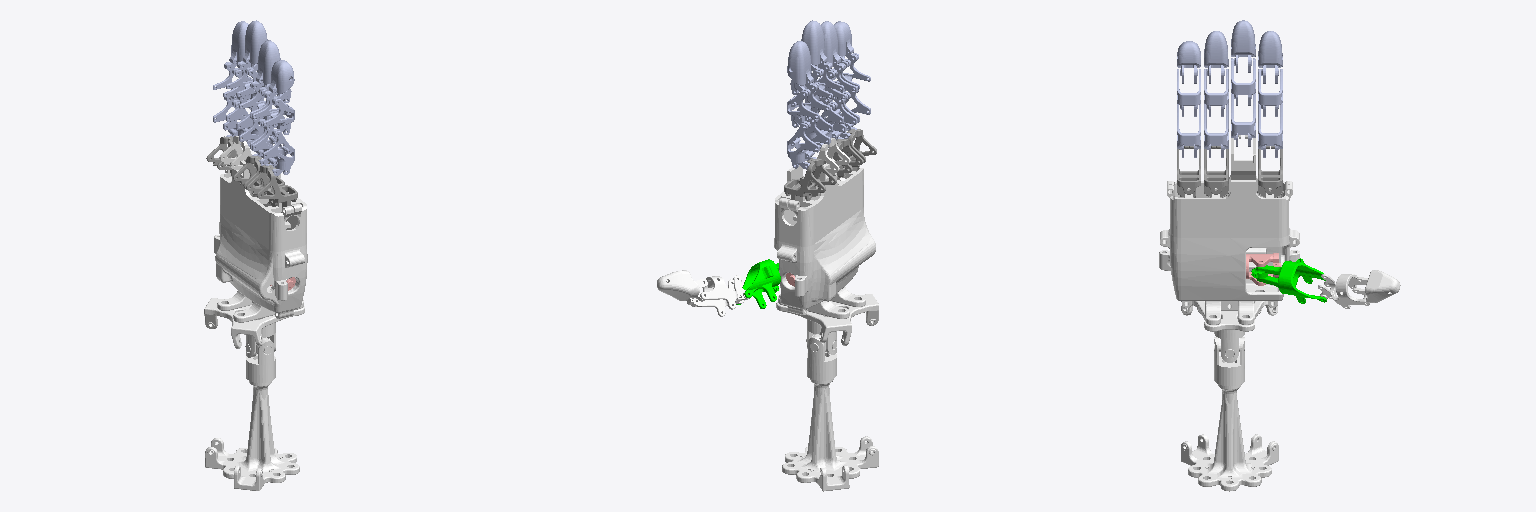
--- What the picture shows (computed from the rendered views, not written in the file) ---
The picture shows the robot from 3 angles, left to right: view 1: azimuth 30°, elevation 25°; view 2: azimuth 150°, elevation 25°; view 3: azimuth 270°, elevation 25°; orthographic projection.
Robot: Assem_w_tip_w_wrist — 27 links, 26 joints (21 revolute, 5 fixed); root link base_link; default pose: all joints at 0.
Visible links, largest first — view 1: Palm, base_link, P_B_MCP, P_MCP, P_DIP, P_PIP, R_DIP, M_DIP, I_DIP, R_B_MCP; view 2: Palm, base_link, T_MCP, T_CMC, I_B_MCP, I_DIP, T_IP, I_MCP, I_PIP, M_DIP, R_DIP, P_DIP (+1 smaller); view 3: Palm, base_link, T_CMC, T_MCP, T_IP, I_DIP, R_DIP, M_DIP, R_B_MCP, I_B_MCP, P_B_MCP, P_DIP (+6 smaller).
Boxes of the visible links, x1,y1,x2,y2 form: Palm: (204,136,307,357); base_link: (205,339,299,490); P_B_MCP: (246,165,297,212); P_MCP: (252,123,294,175); P_DIP: (265,60,294,103); P_PIP: (252,91,294,135); R_DIP: (252,40,280,93); M_DIP: (238,20,267,74); I_DIP: (225,21,250,74); R_B_MCP: (233,156,284,203); Palm: (774,138,878,354); base_link: (782,336,878,491); T_MCP: (691,275,749,316); T_CMC: (736,259,780,308); I_B_MCP: (784,158,836,206); I_DIP: (787,41,817,95); T_IP: (657,270,707,305); I_MCP: (787,116,830,169); I_PIP: (787,82,830,127); M_DIP: (801,20,830,74); R_DIP: (818,21,844,75); P_DIP: (834,21,857,66); Palm: (1159,135,1299,362); base_link: (1181,337,1278,491); T_CMC: (1251,258,1326,303); T_MCP: (1318,274,1369,308); T_IP: (1352,270,1399,303); I_DIP: (1258,31,1282,83); R_DIP: (1204,31,1228,83); M_DIP: (1231,20,1255,72); R_B_MCP: (1204,146,1228,197); I_B_MCP: (1257,146,1283,197); P_B_MCP: (1177,146,1200,197); P_DIP: (1177,41,1200,83).
Bounding box of the posed robot: 0.1153 × 0.1869 × 0.3885 m (x, y, z).
Meshes: 26 distinct files referenced, 26 mesh visuals loaded (26 binary STL).

URDF robot description (Assem_w_tip_w_wrist):
<?xml version="1.0" ?>
<!-- =================================================================================== -->
<!-- |    This document was autogenerated by xacro from Krysalis_Assem_w_tip_w_wrist.xacro | -->
<!-- |    EDITING THIS FILE BY HAND IS NOT RECOMMENDED                                 | -->
<!-- =================================================================================== -->
<robot name="Assem_w_tip_w_wrist">
  <link name="base_link">
    <inertial>
      <origin rpy="0 0 0" xyz="0.00288917703400745 7.19298575992736E-08 0.0333943413697345"/>
      <mass value="0.0405673074248041"/>
      <inertia ixx="3.05405058204204E-05" ixy="-9.17701530382059E-12" ixz="-2.28215750329719E-06" iyy="2.99406334813428E-05" iyz="5.05819828519376E-11" izz="1.29896650650468E-05"/>
    </inertial>
    <visual>
      <origin rpy="0 0 0" xyz="0 0 0"/>
      <geometry>
        <mesh filename="package://Assem_w_tip_w_wrist/meshes/base_link.STL"/>
      </geometry>
      <material name="">
        <color rgba="1 1 1 1"/>
      </material>
    </visual>
    <collision>
      <origin rpy="0 0 0" xyz="0 0 0"/>
      <geometry>
        <mesh filename="package://Assem_w_tip_w_wrist/meshes/base_link.STL"/>
      </geometry>
    </collision>
  </link>
  <link name="Palm">
    <inertial>
      <origin rpy="0 0 0" xyz="-0.00100228247291861 0.0713109339067146 -0.00174502462719912"/>
      <mass value="0.120926471921812"/>
      <inertia ixx="0.000138610425454301" ixy="-4.62786158151152E-06" ixz="2.20807343346201E-06" iyy="0.000101897977536037" iyz="-2.30882115787054E-06" izz="0.000192936318502003"/>
    </inertial>
    <visual>
      <origin rpy="0 0 0" xyz="0 0 0"/>
      <geometry>
        <mesh filename="package://Assem_w_tip_w_wrist/meshes/Palm.STL"/>
      </geometry>
      <material name="">
        <color rgba="1 1 1 1"/>
      </material>
    </visual>
    <collision>
      <origin rpy="0 0 0" xyz="0 0 0"/>
      <geometry>
        <mesh filename="package://Assem_w_tip_w_wrist/meshes/Palm.STL"/>
      </geometry>
    </collision>
  </link>
  <link name="I_B_MCP">
    <inertial>
      <origin rpy="0 0 0" xyz="-0.000141741869560293 0.0074142743318362 0.00334888740628136"/>
      <mass value="0.00533430654578869"/>
      <inertia ixx="1.03059674811244E-06" ixy="2.85499977000514E-09" ixz="5.92073904839143E-09" iyy="6.30910052491092E-07" iyz="-3.26746504704581E-07" izz="8.35249912431195E-07"/>
    </inertial>
    <visual>
      <origin rpy="0 0 0" xyz="0 0 0"/>
      <geometry>
        <mesh filename="package://Assem_w_tip_w_wrist/meshes/I_B_MCP.STL"/>
      </geometry>
      <material name="">
        <color rgba="0.698039215686274 0.698039215686274 0.698039215686274 1"/>
      </material>
    </visual>
    <collision>
      <origin rpy="0 0 0" xyz="0 0 0"/>
      <geometry>
        <mesh filename="package://Assem_w_tip_w_wrist/meshes/I_B_MCP.STL"/>
      </geometry>
    </collision>
  </link>
  <joint name="Index_Below_MCP" type="revolute">
    <origin rpy="3.14159265358979 0 3.14159265358979" xyz="0.0314999999997207 0.140450000000007 0"/>
    <parent link="Palm"/>
    <child link="I_B_MCP"/>
    <axis xyz="0 0 1"/>
    <limit effort="0" lower="0" upper="0.4666" velocity="0"/>
  </joint>
  <link name="I_MCP">
    <inertial>
      <origin rpy="0 0 0" xyz="-1.74798426278155E-05 0.0124250684933012 0.0058426333833799"/>
      <mass value="0.00275593740944754"/>
      <inertia ixx="3.71397800153596E-07" ixy="-4.41719116223258E-11" ixz="5.12329061713431E-11" iyy="2.52621011381552E-07" iyz="4.71521203210919E-08" izz="3.66972791021968E-07"/>
    </inertial>
    <visual>
      <origin rpy="0 0 0" xyz="0 0 0"/>
      <geometry>
        <mesh filename="package://Assem_w_tip_w_wrist/meshes/I_MCP.STL"/>
      </geometry>
      <material name="">
        <color rgba="0.796078431372549 0.823529411764706 0.937254901960784 1"/>
      </material>
    </visual>
    <collision>
      <origin rpy="0 0 0" xyz="0 0 0"/>
      <geometry>
        <mesh filename="package://Assem_w_tip_w_wrist/meshes/I_MCP.STL"/>
      </geometry>
    </collision>
  </link>
  <joint name="Index_MCP" type="revolute">
    <origin rpy="3.14159265358979 0 3.14159265358979" xyz="0 0.0280000000000001 0.00795476324525228"/>
    <parent link="I_B_MCP"/>
    <child link="I_MCP"/>
    <axis xyz="-1 0 0"/>
    <limit effort="0" lower="-1.8002" upper="0" velocity="0"/>
  </joint>
  <link name="I_PIP">
    <inertial>
      <origin rpy="0 0 0" xyz="-1.89088826897318E-05 0.0102468342925393 0.00623016626774232"/>
      <mass value="0.00240650780281676"/>
      <inertia ixx="2.39240219965935E-07" ixy="-3.25872058619951E-11" ixz="3.63121382835939E-11" iyy="2.04216614716598E-07" iyz="3.40669686531923E-09" izz="2.34950639926256E-07"/>
    </inertial>
    <visual>
      <origin rpy="0 0 0" xyz="0 0 0"/>
      <geometry>
        <mesh filename="package://Assem_w_tip_w_wrist/meshes/I_PIP.STL"/>
      </geometry>
      <material name="">
        <color rgba="0.796078431372549 0.823529411764706 0.937254901960784 1"/>
      </material>
    </visual>
    <collision>
      <origin rpy="0 0 0" xyz="0 0 0"/>
      <geometry>
        <mesh filename="package://Assem_w_tip_w_wrist/meshes/I_PIP.STL"/>
      </geometry>
    </collision>
  </link>
  <joint name="Index_PIP" type="revolute">
    <origin rpy="0 0 0" xyz="0 0.0349845407392165 4.41133227610524E-05"/>
    <parent link="I_MCP"/>
    <child link="I_PIP"/>
    <axis xyz="-1 0 0"/>
    <limit effort="0" lower="-1.3104" upper="0" velocity="0"/>
  </joint>
  <link name="I_DIP">
    <inertial>
      <origin rpy="0 0 0" xyz="-1.79514642293377E-05 0.0186542949904827 0.00887453782729761"/>
      <mass value="0.00401062210067862"/>
      <inertia ixx="5.37383356206639E-07" ixy="-2.55982277048139E-10" ixz="-2.95024709322941E-11" iyy="2.03576113009439E-07" iyz="-6.20176632030851E-08" izz="5.63158597281292E-07"/>
    </inertial>
    <visual>
      <origin rpy="0 0 0" xyz="0 0 0"/>
      <geometry>
        <mesh filename="package://Assem_w_tip_w_wrist/meshes/I_DIP.STL"/>
      </geometry>
      <material name="">
        <color rgba="0.796078431372549 0.823529411764706 0.937254901960784 1"/>
      </material>
    </visual>
    <collision>
      <origin rpy="0 0 0" xyz="0 0 0"/>
      <geometry>
        <mesh filename="package://Assem_w_tip_w_wrist/meshes/I_DIP.STL"/>
      </geometry>
    </collision>
  </link>
  <joint name="Index_DIP" type="revolute">
    <origin rpy="0 0 0" xyz="0 0.0280000000000003 0"/>
    <parent link="I_PIP"/>
    <child link="I_DIP"/>
    <axis xyz="-1 0 0"/>
    <limit effort="0" lower="-1.1885" upper="0" velocity="0"/>
  </joint>
  <link name="I_DIP_Tip">
    <inertial>
      <origin rpy="0 0 0" xyz="-1.79511198905996E-05 -0.0208456920790837 -0.00112546160039845"/>
      <mass value="0.00401062518281372"/>
      <inertia ixx="5.37384300107463E-07" ixy="-2.55997853759538E-10" ixz="-2.95041885529222E-11" iyy="2.03576090196458E-07" iyz="-6.20177097517699E-08" izz="5.63159534023233E-07"/>
    </inertial>
    <visual>
      <origin rpy="0 0 0" xyz="0 0 0"/>
      <geometry>
        <mesh filename="package://Assem_w_tip_w_wrist/meshes/I_DIP_Tip.STL"/>
      </geometry>
      <material name="">
        <color rgba="0.796078431372549 0.823529411764706 0.937254901960784 1"/>
      </material>
    </visual>
    <collision>
      <origin rpy="0 0 0" xyz="0 0 0"/>
      <geometry>
        <mesh filename="package://Assem_w_tip_w_wrist/meshes/I_DIP_Tip.STL"/>
      </geometry>
    </collision>
  </link>
  <joint name="Index_DIP_Tip" type="fixed">
    <origin rpy="0 0 0" xyz="0 0.0394999999999937 0.00999999999992346"/>
    <parent link="I_DIP"/>
    <child link="I_DIP_Tip"/>
    <axis xyz="0 0 0"/>
  </joint>
  <link name="M_MCP">
    <inertial>
      <origin rpy="0 0 0" xyz="0.0101136051263437 0.0123174670813249 0.00573716287431845"/>
      <mass value="0.00272570618171821"/>
      <inertia ixx="3.60740313112994E-07" ixy="-4.98044373035369E-11" ixz="5.84099746234099E-11" iyy="2.49082011924943E-07" iyz="4.63135977780751E-08" izz="3.60045720563296E-07"/>
    </inertial>
    <visual>
      <origin rpy="0 0 0" xyz="0 0 0"/>
      <geometry>
        <mesh filename="package://Assem_w_tip_w_wrist/meshes/M_MCP.STL"/>
      </geometry>
      <material name="">
        <color rgba="0.796078431372549 0.823529411764706 0.937254901960784 1"/>
      </material>
    </visual>
    <collision>
      <origin rpy="0 0 0" xyz="0 0 0"/>
      <geometry>
        <mesh filename="package://Assem_w_tip_w_wrist/meshes/M_MCP.STL"/>
      </geometry>
    </collision>
  </link>
  <joint name="Middle_MCP" type="revolute">
    <origin rpy="0 0 0" xyz="0.000368685087286369 0.177450000000007 -0.00795178552457043"/>
    <parent link="Palm"/>
    <child link="M_MCP"/>
    <axis xyz="-1 0 0"/>
    <limit effort="0" lower="-1.7791" upper="0" velocity="0"/>
  </joint>
  <link name="M_PIP">
    <inertial>
      <origin rpy="0 0 0" xyz="0.0101119553037649 0.010252203532493 0.00631460697183711"/>
      <mass value="0.00237659295556983"/>
      <inertia ixx="2.36204818756337E-07" ixy="1.76280077969291E-12" ixz="3.6770946859238E-11" iyy="2.02624438695474E-07" iyz="3.74104602859201E-09" izz="2.28946207305512E-07"/>
    </inertial>
    <visual>
      <origin rpy="0 0 0" xyz="0 0 0"/>
      <geometry>
        <mesh filename="package://Assem_w_tip_w_wrist/meshes/M_PIP.STL"/>
      </geometry>
      <material name="">
        <color rgba="0.792156862745098 0.819607843137255 0.933333333333333 1"/>
      </material>
    </visual>
    <collision>
      <origin rpy="0 0 0" xyz="0 0 0"/>
      <geometry>
        <mesh filename="package://Assem_w_tip_w_wrist/meshes/M_PIP.STL"/>
      </geometry>
    </collision>
  </link>
  <joint name="Middle_PIP" type="revolute">
    <origin rpy="0 0 0" xyz="0 0.0349845407392164 4.41133227957469E-05"/>
    <parent link="M_MCP"/>
    <child link="M_PIP"/>
    <axis xyz="-1 0 0"/>
    <limit effort="0" lower="-1.2823" upper="0" velocity="0"/>
  </joint>
  <link name="M_DIP">
    <inertial>
      <origin rpy="0 0 0" xyz="0.00959086211352167 0.0186497160542034 0.0088256380117765"/>
      <mass value="0.00393985712726044"/>
      <inertia ixx="5.33501047208565E-07" ixy="-2.54142134600127E-10" ixz="-2.39215092139354E-11" iyy="2.021617042524E-07" iyz="-6.16508472153486E-08" izz="5.59715605803219E-07"/>
    </inertial>
    <visual>
      <origin rpy="0 0 0" xyz="0 0 0"/>
      <geometry>
        <mesh filename="package://Assem_w_tip_w_wrist/meshes/M_DIP.STL"/>
      </geometry>
      <material name="">
        <color rgba="0.796078431372549 0.823529411764706 0.937254901960784 1"/>
      </material>
    </visual>
    <collision>
      <origin rpy="0 0 0" xyz="0 0 0"/>
      <geometry>
        <mesh filename="package://Assem_w_tip_w_wrist/meshes/M_DIP.STL"/>
      </geometry>
    </collision>
  </link>
  <joint name="Middle_DIP" type="revolute">
    <origin rpy="0 0 0" xyz="0.000522164976606988 0.0280000000000001 0"/>
    <parent link="M_PIP"/>
    <child link="M_DIP"/>
    <axis xyz="-1 0 0"/>
    <limit effort="0" lower="-1.275" upper="0" velocity="0"/>
  </joint>
  <link name="M_DIP_Tip">
    <inertial>
      <origin rpy="0 0 0" xyz="-1.82883264406922E-05 -0.0208502708482803 -0.00117436108513081"/>
      <mass value="0.00393986040390953"/>
      <inertia ixx="5.33501938359617E-07" ixy="-2.54105674461358E-10" ixz="-2.39229374183927E-11" iyy="2.02161687109717E-07" iyz="-6.16509173250593E-08" izz="5.59716482402493E-07"/>
    </inertial>
    <visual>
      <origin rpy="0 0 0" xyz="0 0 0"/>
      <geometry>
        <mesh filename="package://Assem_w_tip_w_wrist/meshes/M_DIP_Tip.STL"/>
      </geometry>
      <material name="">
        <color rgba="0.796078431372549 0.823529411764706 0.937254901960784 1"/>
      </material>
    </visual>
    <collision>
      <origin rpy="0 0 0" xyz="0 0 0"/>
      <geometry>
        <mesh filename="package://Assem_w_tip_w_wrist/meshes/M_DIP_Tip.STL"/>
      </geometry>
    </collision>
  </link>
  <joint name="Middle_DIP_Tip" type="fixed">
    <origin rpy="0 0 0" xyz="0.00960914993574263 0.0394999999999935 0.00999999999987842"/>
    <parent link="M_DIP"/>
    <child link="M_DIP_Tip"/>
    <axis xyz="0 0 0"/>
  </joint>
  <link name="R_B_MCP">
    <inertial>
      <origin rpy="0 0 0" xyz="0.000141400022333087 0.00748571390330743 -0.00336921468308588"/>
      <mass value="0.00533806254719223"/>
      <inertia ixx="1.0353483169865E-06" ixy="-2.71242837104229E-09" ixz="5.52800342769745E-09" iyy="6.29683236201212E-07" iyz="3.28505949538031E-07" izz="8.39889436289043E-07"/>
    </inertial>
    <visual>
      <origin rpy="0 0 0" xyz="0 0 0"/>
      <geometry>
        <mesh filename="package://Assem_w_tip_w_wrist/meshes/R_B_MCP.STL"/>
      </geometry>
      <material name="">
        <color rgba="0.698039215686274 0.698039215686274 0.698039215686274 1"/>
      </material>
    </visual>
    <collision>
      <origin rpy="0 0 0" xyz="0 0 0"/>
      <geometry>
        <mesh filename="package://Assem_w_tip_w_wrist/meshes/R_B_MCP.STL"/>
      </geometry>
    </collision>
  </link>
  <joint name="Ring_Below_MCP" type="revolute">
    <origin rpy="0 0 0" xyz="-0.0105000000003218 0.140450000000007 0"/>
    <parent link="Palm"/>
    <child link="R_B_MCP"/>
    <axis xyz="0 0 1"/>
    <limit effort="0" lower="0" upper="0.4666" velocity="0"/>
  </joint>
  <link name="R_MCP">
    <inertial>
      <origin rpy="0 0 0" xyz="-1.81900103362071E-05 0.0123593679217145 0.00587054972046028"/>
      <mass value="0.00276771907047308"/>
      <inertia ixx="3.6293319421358E-07" ixy="-2.60044174910396E-11" ixz="4.37098756345083E-11" iyy="2.51940196800613E-07" iyz="4.48500665923026E-08" izz="3.63178593785227E-07"/>
    </inertial>
    <visual>
      <origin rpy="0 0 0" xyz="0 0 0"/>
      <geometry>
        <mesh filename="package://Assem_w_tip_w_wrist/meshes/R_MCP.STL"/>
      </geometry>
      <material name="">
        <color rgba="0.796078431372549 0.823529411764706 0.937254901960784 1"/>
      </material>
    </visual>
    <collision>
      <origin rpy="0 0 0" xyz="0 0 0"/>
      <geometry>
        <mesh filename="package://Assem_w_tip_w_wrist/meshes/R_MCP.STL"/>
      </geometry>
    </collision>
  </link>
  <joint name="Ring_MCP" type="revolute">
    <origin rpy="0 0 0" xyz="0 0.0280000000000001 -0.00795476324525061"/>
    <parent link="R_B_MCP"/>
    <child link="R_MCP"/>
    <axis xyz="-1 0 0"/>
    <limit effort="0" lower="-1.7553" upper="0" velocity="0"/>
  </joint>
  <link name="R_PIP">
    <inertial>
      <origin rpy="0 0 0" xyz="-1.80413738349317E-05 0.0102929994545149 0.00630507414295918"/>
      <mass value="0.00238434024010653"/>
      <inertia ixx="2.36356872842794E-07" ixy="-6.39117308852323E-12" ixz="1.54530706119539E-11" iyy="2.03192454048864E-07" iyz="3.38662038008827E-09" izz="2.30526732864084E-07"/>
    </inertial>
    <visual>
      <origin rpy="0 0 0" xyz="0 0 0"/>
      <geometry>
        <mesh filename="package://Assem_w_tip_w_wrist/meshes/R_PIP.STL"/>
      </geometry>
      <material name="">
        <color rgba="0.796078431372549 0.823529411764706 0.937254901960784 1"/>
      </material>
    </visual>
    <collision>
      <origin rpy="0 0 0" xyz="0 0 0"/>
      <geometry>
        <mesh filename="package://Assem_w_tip_w_wrist/meshes/R_PIP.STL"/>
      </geometry>
    </collision>
  </link>
  <joint name="Ring_PIP" type="revolute">
    <origin rpy="0 0 0" xyz="0 0.0349845407392165 4.41133228030188E-05"/>
    <parent link="R_MCP"/>
    <child link="R_PIP"/>
    <axis xyz="-1 0 0"/>
    <limit effort="0" lower="-1.273" upper="0" velocity="0"/>
  </joint>
  <link name="R_DIP">
    <inertial>
      <origin rpy="0 0 0" xyz="-1.83063200351503E-05 0.0186629542830772 0.00880902120918689"/>
      <mass value="0.00392874530194357"/>
      <inertia ixx="5.33045587126399E-07" ixy="-2.55761115191706E-10" ixz="-2.41673457656617E-11" iyy="2.01758989610719E-07" iyz="-6.18614962583378E-08" izz="5.59544610351373E-07"/>
    </inertial>
    <visual>
      <origin rpy="0 0 0" xyz="0 0 0"/>
      <geometry>
        <mesh filename="package://Assem_w_tip_w_wrist/meshes/R_DIP.STL"/>
      </geometry>
      <material name="">
        <color rgba="0.796078431372549 0.823529411764706 0.937254901960784 1"/>
      </material>
    </visual>
    <collision>
      <origin rpy="0 0 0" xyz="0 0 0"/>
      <geometry>
        <mesh filename="package://Assem_w_tip_w_wrist/meshes/R_DIP.STL"/>
      </geometry>
    </collision>
  </link>
  <joint name="Ring_DIP" type="revolute">
    <origin rpy="0 0 0" xyz="0 0.0280000000000001 0"/>
    <parent link="R_PIP"/>
    <child link="R_DIP"/>
    <axis xyz="-1 0 0"/>
    <limit effort="0" lower="-1.2842" upper="0" velocity="0"/>
  </joint>
  <link name="R_DIP_Tip">
    <inertial>
      <origin rpy="0 0 0" xyz="-1.83070900889835E-05 -0.0208370357672115 -0.00119097963723128"/>
      <mass value="0.00392874776267662"/>
      <inertia ixx="5.33046262768438E-07" ixy="-2.55706763585683E-10" ixz="-2.41593657796156E-11" iyy="2.01758966180991E-07" iyz="-6.18614331450794E-08" izz="5.59545275993907E-07"/>
    </inertial>
    <visual>
      <origin rpy="0 0 0" xyz="0 0 0"/>
      <geometry>
        <mesh filename="package://Assem_w_tip_w_wrist/meshes/R_DIP_Tip.STL"/>
      </geometry>
      <material name="">
        <color rgba="0.796078431372549 0.823529411764706 0.937254901960784 1"/>
      </material>
    </visual>
    <collision>
      <origin rpy="0 0 0" xyz="0 0 0"/>
      <geometry>
        <mesh filename="package://Assem_w_tip_w_wrist/meshes/R_DIP_Tip.STL"/>
      </geometry>
    </collision>
  </link>
  <joint name="Ring_DIP_Tip" type="fixed">
    <origin rpy="0 0 0" xyz="0 0.0394999999999934 0.010000000000021"/>
    <parent link="R_DIP"/>
    <child link="R_DIP_Tip"/>
    <axis xyz="0 0 0"/>
  </joint>
  <link name="P_B_MCP">
    <inertial>
      <origin rpy="0 0 0" xyz="-0.00016822714604979 0.00805589897466968 -0.00365488797406816"/>
      <mass value="0.00512816464445928"/>
      <inertia ixx="9.99698557475322E-07" ixy="-2.1827834732298E-08" ixz="1.56085772722901E-08" iyy="6.10313699095437E-07" iyz="3.14479371654659E-07" izz="7.98354669674153E-07"/>
    </inertial>
    <visual>
      <origin rpy="0 0 0" xyz="0 0 0"/>
      <geometry>
        <mesh filename="package://Assem_w_tip_w_wrist/meshes/P_B_MCP.STL"/>
      </geometry>
      <material name="">
        <color rgba="0.698039215686274 0.698039215686274 0.698039215686274 1"/>
      </material>
    </visual>
    <collision>
      <origin rpy="0 0 0" xyz="0 0 0"/>
      <geometry>
        <mesh filename="package://Assem_w_tip_w_wrist/meshes/P_B_MCP.STL"/>
      </geometry>
    </collision>
  </link>
  <joint name="Pinky_Below_MCP" type="revolute">
    <origin rpy="0 0 0" xyz="-0.0315000000003377 0.140450000000008 0"/>
    <parent link="Palm"/>
    <child link="P_B_MCP"/>
    <axis xyz="0 0 1"/>
    <limit effort="0" lower="0" upper="0.6872" velocity="0"/>
  </joint>
  <link name="P_MCP">
    <inertial>
      <origin rpy="0 0 0" xyz="-1.75508168624786E-05 0.0123862716758279 0.00586908713083029"/>
      <mass value="0.0027527409670799"/>
      <inertia ixx="3.66134185519609E-07" ixy="-5.23805936563049E-11" ixz="5.22078287918388E-11" iyy="2.51982271717664E-07" iyz="4.56227552560376E-08" izz="3.63835231591852E-07"/>
    </inertial>
    <visual>
      <origin rpy="0 0 0" xyz="0 0 0"/>
      <geometry>
        <mesh filename="package://Assem_w_tip_w_wrist/meshes/P_MCP.STL"/>
      </geometry>
      <material name="">
        <color rgba="0.796078431372549 0.823529411764706 0.937254901960784 1"/>
      </material>
    </visual>
    <collision>
      <origin rpy="0 0 0" xyz="0 0 0"/>
      <geometry>
        <mesh filename="package://Assem_w_tip_w_wrist/meshes/P_MCP.STL"/>
      </geometry>
    </collision>
  </link>
  <joint name="Pinky_MCP" type="revolute">
    <origin rpy="0 0 0" xyz="0 0.028 -0.00795476324526755"/>
    <parent link="P_B_MCP"/>
    <child link="P_MCP"/>
    <axis xyz="-1 0 0"/>
    <limit effort="0" lower="-1.7269" upper="0" velocity="0"/>
  </joint>
  <link name="P_PIP">
    <inertial>
      <origin rpy="0 0 0" xyz="-1.72400883345983E-05 0.0103223722971154 0.00635348178219377"/>
      <mass value="0.0023789537359218"/>
      <inertia ixx="2.36329510859284E-07" ixy="1.94423826737988E-11" ixz="6.59154956290154E-11" iyy="2.03127917135172E-07" iyz="3.65773511125615E-09" izz="2.30951832349696E-07"/>
    </inertial>
    <visual>
      <origin rpy="0 0 0" xyz="0 0 0"/>
      <geometry>
        <mesh filename="package://Assem_w_tip_w_wrist/meshes/P_PIP.STL"/>
      </geometry>
      <material name="">
        <color rgba="0.796078431372549 0.823529411764706 0.937254901960784 1"/>
      </material>
    </visual>
    <collision>
      <origin rpy="0 0 0" xyz="0 0 0"/>
      <geometry>
        <mesh filename="package://Assem_w_tip_w_wrist/meshes/P_PIP.STL"/>
      </geometry>
    </collision>
  </link>
  <joint name="Pinky_PIP" type="revolute">
    <origin rpy="0 0 0" xyz="0 0.0349845407392164 4.41133227925272E-05"/>
    <parent link="P_MCP"/>
    <child link="P_PIP"/>
    <axis xyz="-1 0 0"/>
    <limit effort="0" lower="-1.2573" upper="0" velocity="0"/>
  </joint>
  <link name="P_DIP">
    <inertial>
      <origin rpy="0 0 0" xyz="-2.31261467509292E-05 0.0152163388924308 0.00857258033935445"/>
      <mass value="0.00310861773436295"/>
      <inertia ixx="3.022016992443E-07" ixy="-7.85953119521502E-12" ixz="-7.08752879404416E-12" iyy="1.56377778235913E-07" iyz="-4.50241177337849E-08" izz="3.21156101863139E-07"/>
    </inertial>
    <visual>
      <origin rpy="0 0 0" xyz="0 0 0"/>
      <geometry>
        <mesh filename="package://Assem_w_tip_w_wrist/meshes/P_DIP.STL"/>
      </geometry>
      <material name="">
        <color rgba="0.796078431372549 0.823529411764706 0.937254901960784 1"/>
      </material>
    </visual>
    <collision>
      <origin rpy="0 0 0" xyz="0 0 0"/>
      <geometry>
        <mesh filename="package://Assem_w_tip_w_wrist/meshes/P_DIP.STL"/>
      </geometry>
    </collision>
  </link>
  <joint name="Pinky_DIP" type="revolute">
    <origin rpy="0 0 0" xyz="0 0.028 0"/>
    <parent link="P_PIP"/>
    <child link="P_DIP"/>
    <axis xyz="-1 0 0"/>
    <limit effort="0" lower="-1.2577" upper="0" velocity="0"/>
  </joint>
  <link name="P_DIP_Tip">
    <inertial>
      <origin rpy="0 0 0" xyz="-2.31260801152391E-05 -0.0152836637237333 -0.00142741970512751"/>
      <mass value="0.00310861698058435"/>
      <inertia ixx="3.02201602388332E-07" ixy="-7.86299305832725E-12" ixz="-7.08594985067307E-12" iyy="1.56377785358377E-07" iyz="-4.50241170067936E-08" izz="3.21156006007108E-07"/>
    </inertial>
    <visual>
      <origin rpy="0 0 0" xyz="0 0 0"/>
      <geometry>
        <mesh filename="package://Assem_w_tip_w_wrist/meshes/P_DIP_Tip.STL"/>
      </geometry>
      <material name="">
        <color rgba="0.796078431372549 0.823529411764706 0.937254901960784 1"/>
      </material>
    </visual>
    <collision>
      <origin rpy="0 0 0" xyz="0 0 0"/>
      <geometry>
        <mesh filename="package://Assem_w_tip_w_wrist/meshes/P_DIP_Tip.STL"/>
      </geometry>
    </collision>
  </link>
  <joint name="Pinky_DIP_Tip" type="fixed">
    <origin rpy="0 0 0" xyz="0 0.0304999999999933 0.0100000000000567"/>
    <parent link="P_DIP"/>
    <child link="P_DIP_Tip"/>
    <axis xyz="0 0 0"/>
  </joint>
  <link name="T_P_S">
    <inertial>
      <origin rpy="0 0 0" xyz="-0.00133532824825168 0.000120665991595326 0.000406645795163037"/>
      <mass value="0.0104013413375586"/>
      <inertia ixx="5.42061188311911E-07" ixy="2.5306807659414E-08" ixz="-9.78380508419395E-08" iyy="3.50375398539094E-06" iyz="-7.00108296291377E-10" izz="3.27135341594506E-06"/>
    </inertial>
    <visual>
      <origin rpy="0 0 0" xyz="0 0 0"/>
      <geometry>
        <mesh filename="package://Assem_w_tip_w_wrist/meshes/T_P_S.STL"/>
      </geometry>
      <material name="">
        <color rgba="1 0.752941176470588 0.752941176470588 1"/>
      </material>
    </visual>
    <collision>
      <origin rpy="0 0 0" xyz="0 0 0"/>
      <geometry>
        <mesh filename="package://Assem_w_tip_w_wrist/meshes/T_P_S.STL"/>
      </geometry>
    </collision>
  </link>
  <joint name="Thumb_Pro_Supination" type="revolute">
    <origin rpy="0 0 0" xyz="0 0.0700500000000081 0.00254523675472768"/>
    <parent link="Palm"/>
    <child link="T_P_S"/>
    <axis xyz="1 0 0"/>
    <limit effort="0" lower="-0.6363" upper="0.6363" velocity="0"/>
  </joint>
  <link name="T_CMC">
    <inertial>
      <origin rpy="0 0 0" xyz="0.00168374953213787 9.82021480901013E-05 0.0218902393318586"/>
      <mass value="0.0056356338651766"/>
      <inertia ixx="1.26829163436478E-06" ixy="1.05367080871463E-08" ixz="-1.62375355325856E-07" iyy="1.22011213798707E-06" iyz="-2.03542243169219E-08" izz="5.81959418465577E-07"/>
    </inertial>
    <visual>
      <origin rpy="0 0 0" xyz="0 0 0"/>
      <geometry>
        <mesh filename="package://Assem_w_tip_w_wrist/meshes/T_CMC.STL"/>
      </geometry>
      <material name="">
        <color rgba="0 1 0 1"/>
      </material>
    </visual>
    <collision>
      <origin rpy="0 0 0" xyz="0 0 0"/>
      <geometry>
        <mesh filename="package://Assem_w_tip_w_wrist/meshes/T_CMC.STL"/>
      </geometry>
    </collision>
  </link>
  <joint name="Thumb_CMC" type="revolute">
    <origin rpy="-1.07907624681628 0.636866640194575 -1.26244557315784" xyz="0.0241199999998295 0 0.0115599999996668"/>
    <parent link="T_P_S"/>
    <child link="T_CMC"/>
    <axis xyz="0.76604444311898 -0.642787609686537 0"/>
    <limit effort="0" lower="0" upper="1.8545" velocity="0"/>
  </joint>
  <link name="T_MCP">
    <inertial>
      <origin rpy="0 0 0" xyz="-0.00410352367274976 -0.0188546486561465 -0.000135076165763207"/>
      <mass value="0.00332373832910088"/>
      <inertia ixx="5.47690075970923E-07" ixy="-3.0661509593922E-08" ixz="1.57099424813818E-10" iyy="3.25193587156607E-07" iyz="4.33023893224048E-11" izz="5.3410848735595E-07"/>
    </inertial>
    <visual>
      <origin rpy="0 0 0" xyz="0 0 0"/>
      <geometry>
        <mesh filename="package://Assem_w_tip_w_wrist/meshes/T_MCP.STL"/>
      </geometry>
      <material name="">
        <color rgba="1 1 1 1"/>
      </material>
    </visual>
    <collision>
      <origin rpy="0 0 0" xyz="0 0 0"/>
      <geometry>
        <mesh filename="package://Assem_w_tip_w_wrist/meshes/T_MCP.STL"/>
      </geometry>
    </collision>
  </link>
  <joint name="Thumb_MCP" type="revolute">
    <origin rpy="-1.5707963267949 -0.240680903850004 0" xyz="0.0106391616042632 0 0.0519999941010939"/>
    <parent link="T_CMC"/>
    <child link="T_MCP"/>
    <axis xyz="0 0 1"/>
    <limit effort="0" lower="-1.3527" upper="0" velocity="0"/>
  </joint>
  <link name="T_IP">
    <inertial>
      <origin rpy="0 0 0" xyz="-0.00960947729713725 -0.000136820949692695 0.0166952338081086"/>
      <mass value="0.00421936396456514"/>
      <inertia ixx="5.7343758975226E-07" ixy="-2.42228731253459E-10" ixz="1.0905764708893E-07" iyy="5.79569688739935E-07" iyz="1.39216154169752E-10" izz="3.12842620211569E-07"/>
    </inertial>
    <visual>
      <origin rpy="0 0 0" xyz="0 0 0"/>
      <geometry>
        <mesh filename="package://Assem_w_tip_w_wrist/meshes/T_IP.STL"/>
      </geometry>
      <material name="">
        <color rgba="1 1 1 1"/>
      </material>
    </visual>
    <collision>
      <origin rpy="0 0 0" xyz="0 0 0"/>
      <geometry>
        <mesh filename="package://Assem_w_tip_w_wrist/meshes/T_IP.STL"/>
      </geometry>
    </collision>
  </link>
  <joint name="Thumb_IP" type="revolute">
    <origin rpy="1.5707963267949 0 -0.0694641042293598" xyz="0 -0.0399999999999966 0"/>
    <parent link="T_MCP"/>
    <child link="T_IP"/>
    <axis xyz="0 1 0"/>
    <limit effort="0" lower="-0.56343" upper="0" velocity="0"/>
  </joint>
  <link name="T_IP_Tip">
    <inertial>
      <origin rpy="0 0 0" xyz="0.00733993695116229 6.49316572202963E-06 -0.0155735597915196"/>
      <mass value="0.00421936396456506"/>
      <inertia ixx="5.73437589752248E-07" ixy="-2.42228731254412E-10" ixz="1.09057647088929E-07" iyy="5.79569688739923E-07" iyz="1.3921615417177E-10" izz="3.12842620211567E-07"/>
    </inertial>
    <visual>
      <origin rpy="0 0 0" xyz="0 0 0"/>
      <geometry>
        <mesh filename="package://Assem_w_tip_w_wrist/meshes/T_IP_Tip.STL"/>
      </geometry>
      <material name="">
        <color rgba="1 1 1 1"/>
      </material>
    </visual>
    <collision>
      <origin rpy="0 0 0" xyz="0 0 0"/>
      <geometry>
        <mesh filename="package://Assem_w_tip_w_wrist/meshes/T_IP_Tip.STL"/>
      </geometry>
    </collision>
  </link>
  <joint name="Thumb_IP_Tip" type="fixed">
    <origin rpy="0 0 0" xyz="-0.016949414248298 -0.000143314115411422 0.0322687935996243"/>
    <parent link="T_IP"/>
    <child link="T_IP_Tip"/>
    <axis xyz="0 0 0"/>
  </joint>
  <link name="palm_intermediate_link"/>
  <joint name="Wrist_Flex_Extension" type="revolute">
    <parent link="base_link"/>
    <child link="palm_intermediate_link"/>
    <origin rpy="1.5707963267949 0 1.5707963267949" xyz="0.00633660798242791 0 0.108612"/>
    <axis xyz="1 0 0"/>
    <limit effort="1" lower="-0.907" upper="0.907" velocity="1"/>
  </joint>
  <joint name="Wrist_RUD" type="revolute">
    <parent link="palm_intermediate_link"/>
    <child link="Palm"/>
    <origin rpy="0 0 0" xyz="0 0 0"/>
    <axis xyz="0 0 1"/>
    <limit effort="1" lower="-0.314" upper="0.314" velocity="1"/>
  </joint>
</robot>
